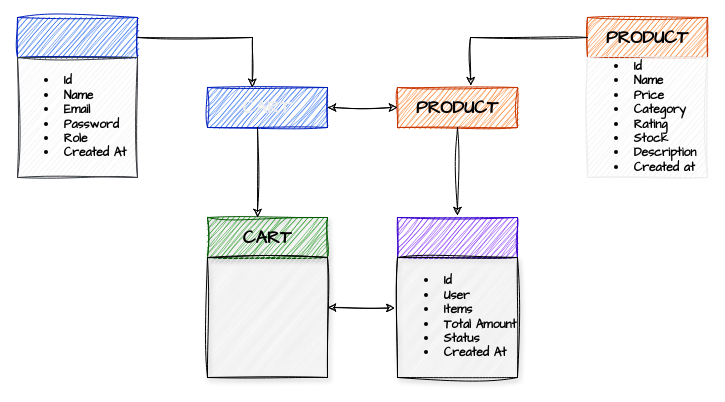
Image size: 725x402. Some labels were removed from this diagram. Here are the shapes that lost their labels. From the top down, the centre of each, then its label:
At point 77,37: "USER".
At point 457,237: "ORDER".
At point 268,318: "id User Items".
